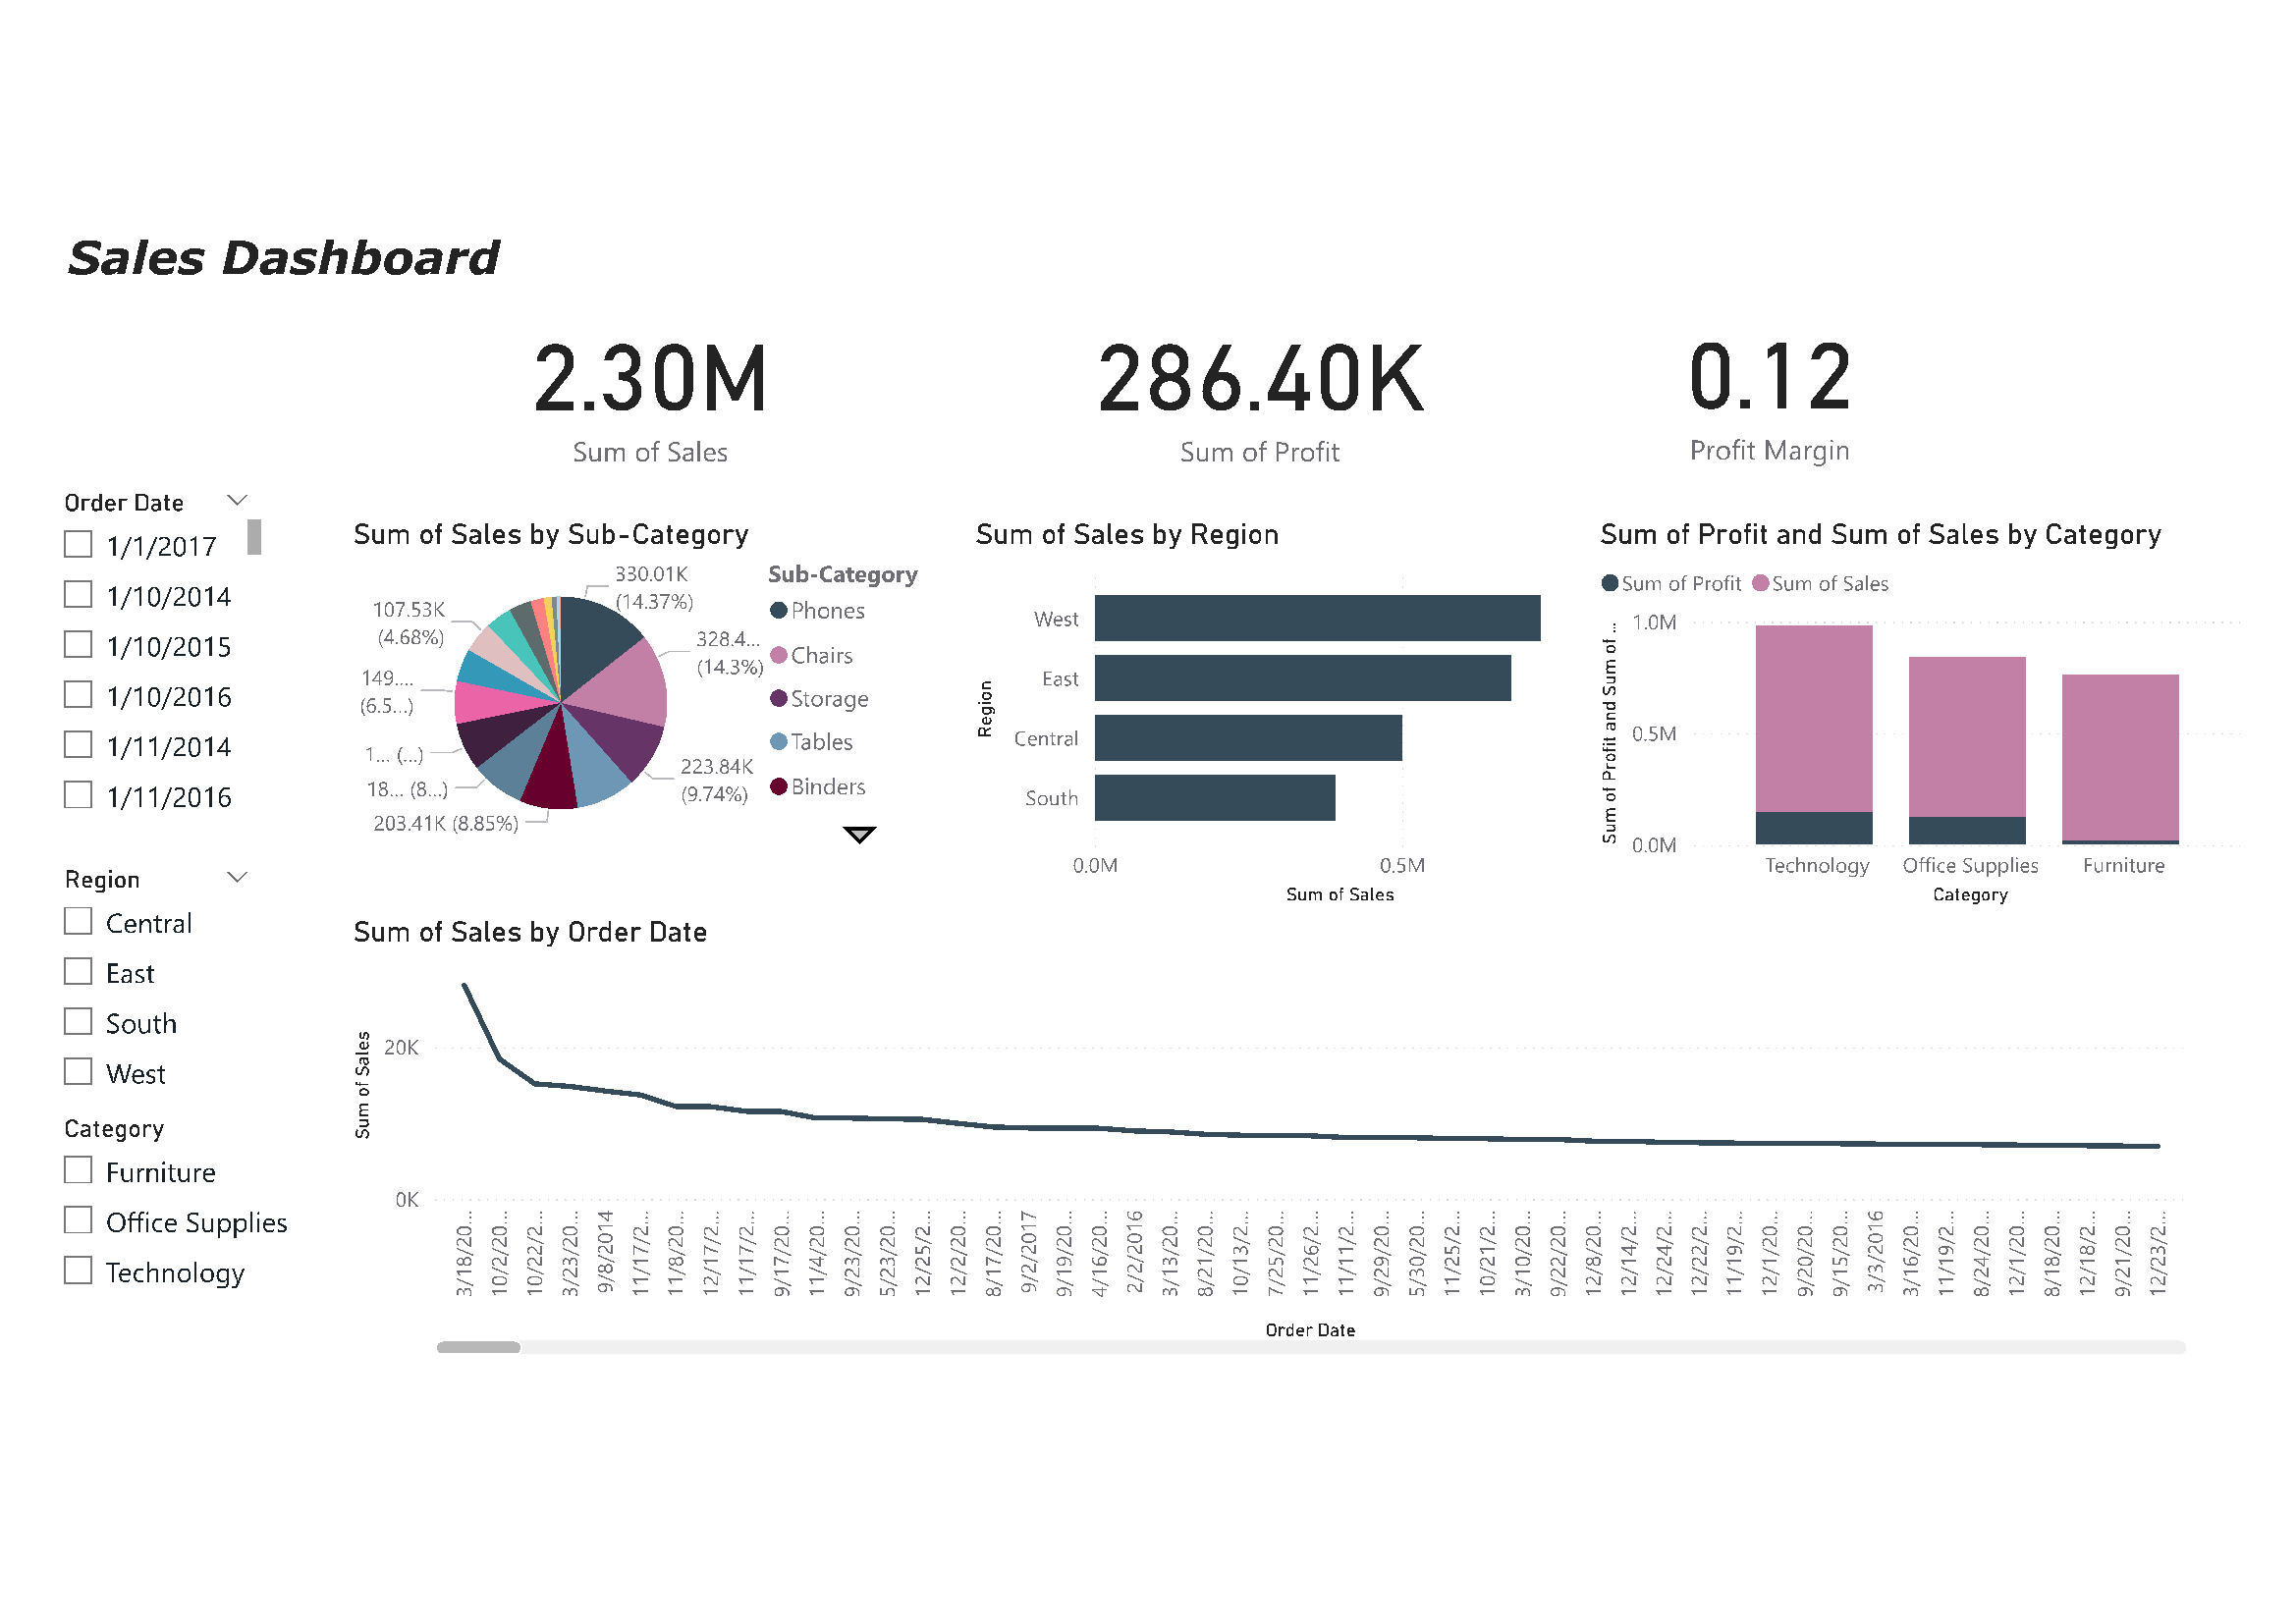

The page's visual inventory and layout, read from the dashboard file:
{"tool":"powerbi","page":{"name":"Page 1","canvas":[1280,720],"ordinal":0},"visuals":[{"type":"card","fields":{"Values":["Sum(Superstore.Sales)"]},"box":[169.2,56,365.7,113.2],"z":0},{"type":"card","fields":{"Values":["Sum(Superstore.Profit)"]},"box":[505,56,399.3,113.2],"z":1},{"type":"card","fields":{"Values":["Sum(Superstore.Profit Margin)"]},"box":[860.8,54.7,277.4,113.2],"z":2},{"type":"slicer","fields":{"Values":["Superstore.Order Date"]},"box":[0,167.9,131.9,205.3],"z":3},{"type":"slicer","fields":{"Values":["Superstore.Region"]},"box":[0,385.6,131.9,181.6],"z":4},{"type":"slicer","fields":{"Values":["Superstore.Category"]},"box":[0,529.9,210.2,149.3],"z":5},{"type":"lineChart","fields":{"Category":["Superstore.Order Date"],"Y":["Sum(Superstore.Sales)"]},"box":[175.4,419.2,1069.8,260],"z":6},{"type":"barChart","fields":{"Category":["Superstore.Region"],"Y":["Sum(Superstore.Sales)"]},"box":[534.9,189.1,376.9,230.1],"z":7},{"type":"columnChart","fields":{"Category":["Superstore.Category"],"Y":["Sum(Superstore.Profit)","Sum(Superstore.Sales)"]},"box":[895.6,189.1,384.4,230.1],"z":8},{"type":"pieChart","fields":{"Category":["Superstore.Sub-Category"],"Y":["Sum(Superstore.Sales)"]},"box":[175.4,189.1,353.3,196.5],"z":9},{"type":"textbox","box":[10,17.4,266.2,51],"z":10}]}

Visuals, with their boxes on the page's 1280x720 design canvas (x1, y1, x2, y2). These are canvas units, not pixel positions in the 2296x1623 screenshot, which may show the page scaled, cropped or inside an application window:
card - Sum(Superstore.Sales): x1=169 y1=56 x2=535 y2=169
card - Sum(Superstore.Profit): x1=505 y1=56 x2=904 y2=169
card - Sum(Superstore.Profit Margin): x1=861 y1=55 x2=1138 y2=168
slicer - Superstore.Order Date: x1=0 y1=168 x2=132 y2=373
slicer - Superstore.Region: x1=0 y1=386 x2=132 y2=567
slicer - Superstore.Category: x1=0 y1=530 x2=210 y2=679
lineChart - Superstore.Order Date x Sum(Superstore.Sales): x1=175 y1=419 x2=1245 y2=679
barChart - Superstore.Region x Sum(Superstore.Sales): x1=535 y1=189 x2=912 y2=419
columnChart - Superstore.Category x Sum(Superstore.Profit): x1=896 y1=189 x2=1280 y2=419
pieChart - Superstore.Sub-Category x Sum(Superstore.Sales): x1=175 y1=189 x2=529 y2=386
textbox: x1=10 y1=17 x2=276 y2=68
